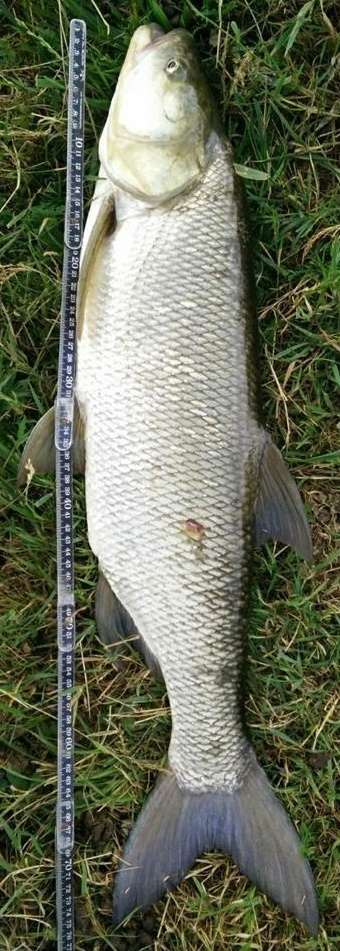Aspius aspius: (20, 20, 320, 931)
